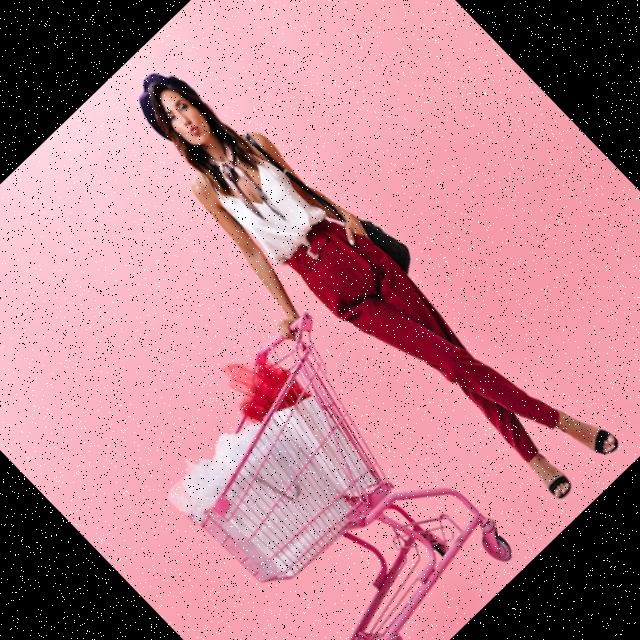Person: (87, 16, 623, 562)
